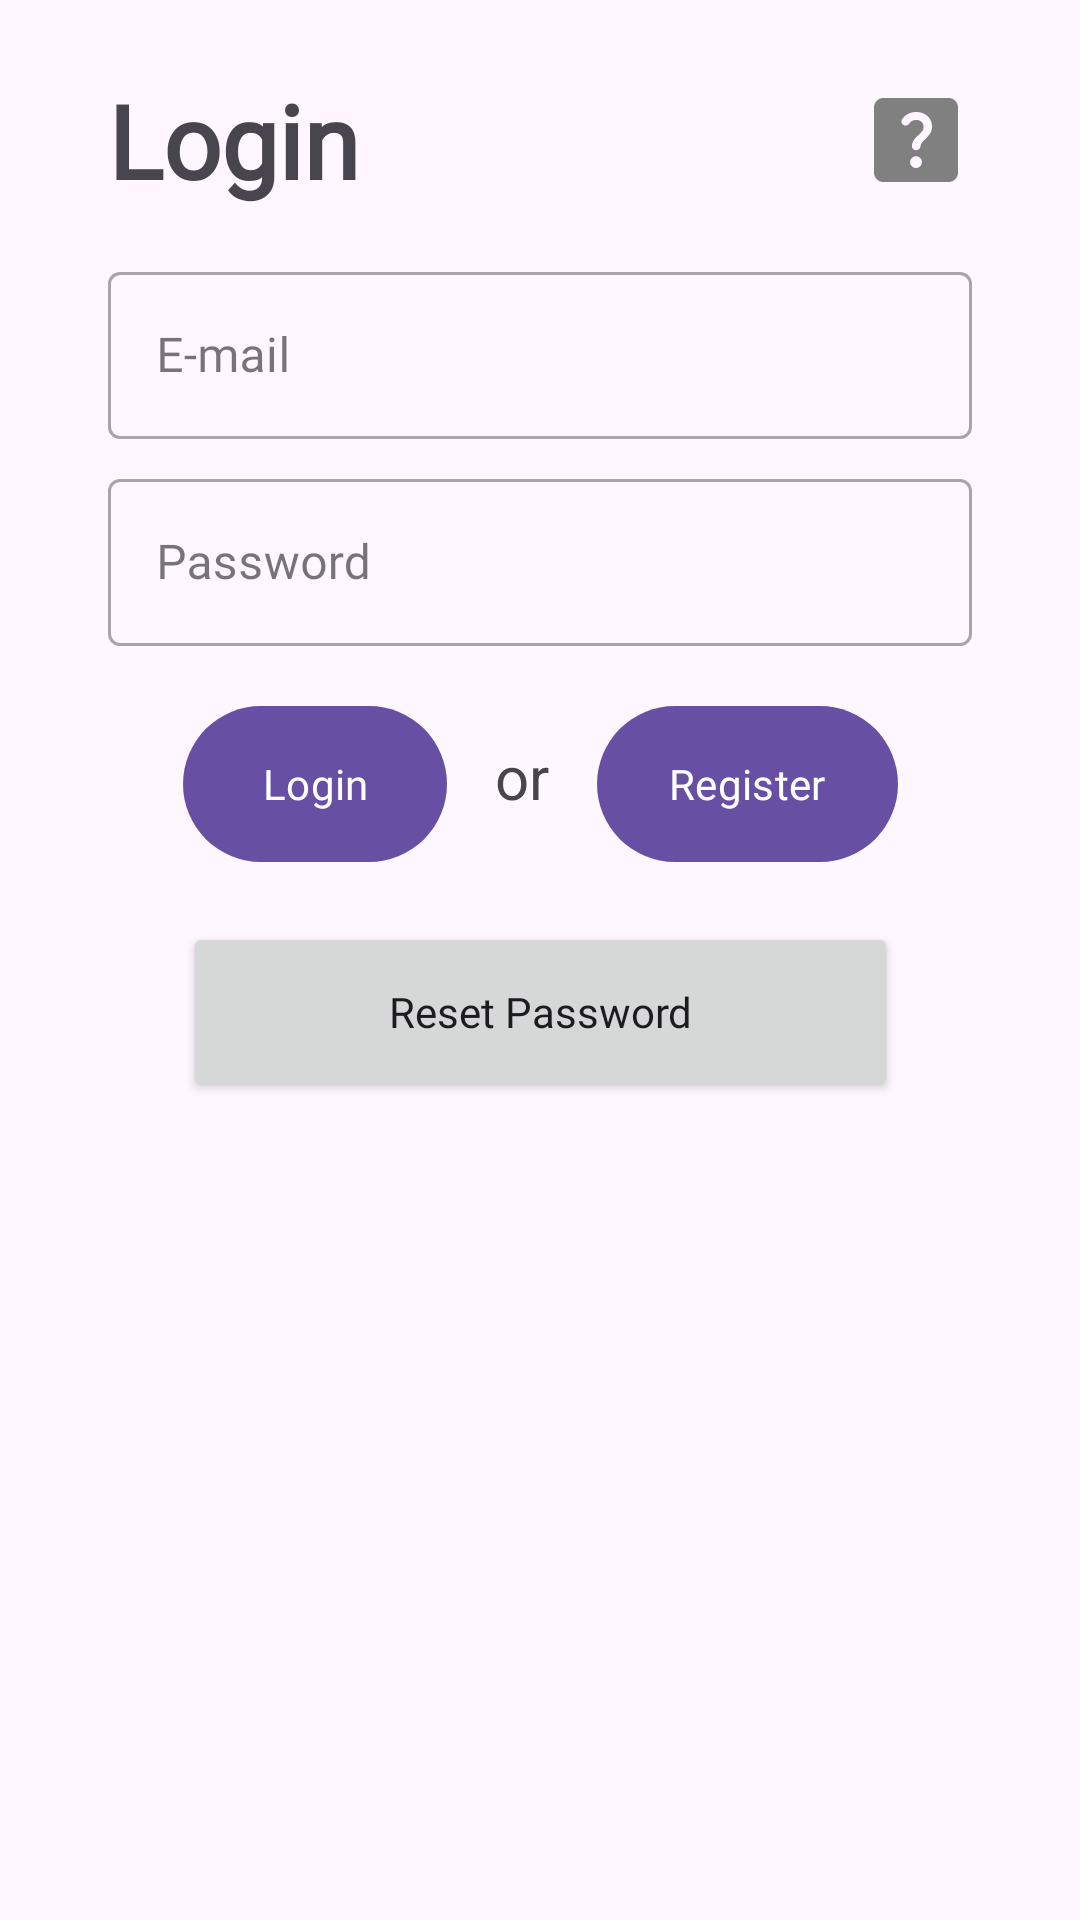

Named icons in this screenshot (1080 × 1920) and their centers, point (x, y):
help: point (916, 140)
